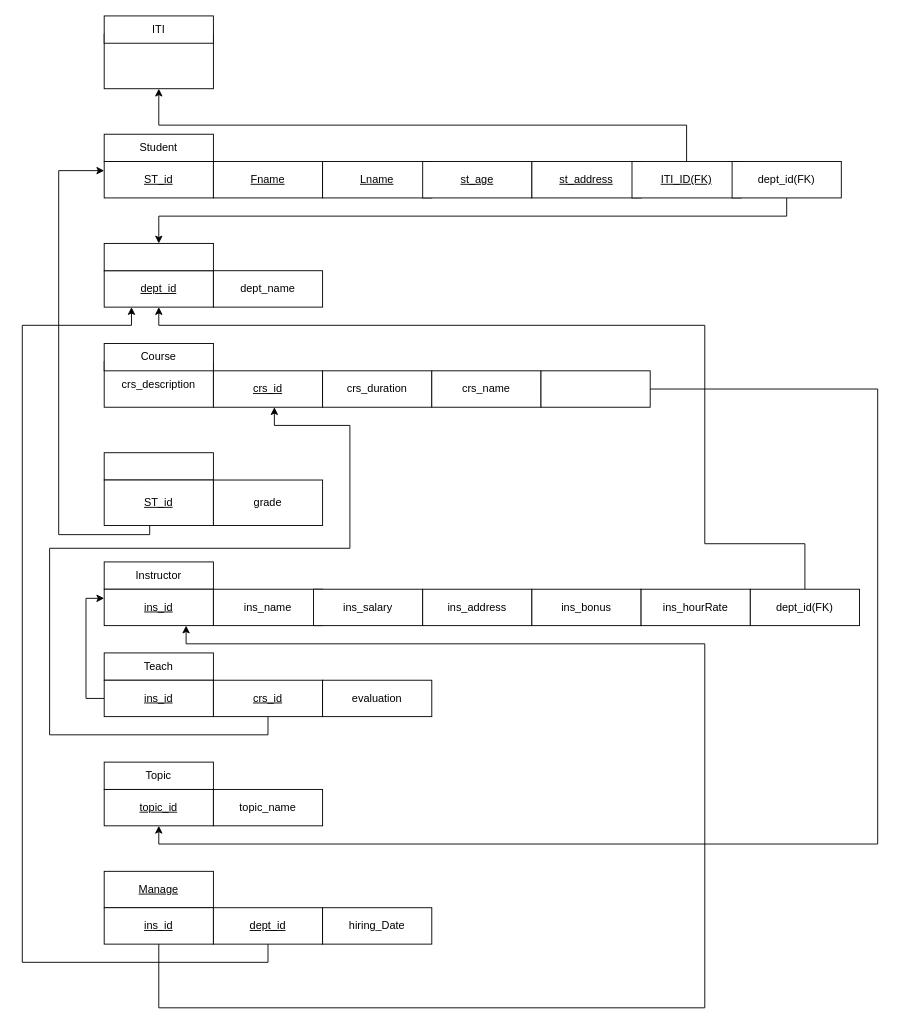
Image size: 901x1031. Some labels were removed from this diagram. The centre of each missing label's shape, as x and y in pixels:
"Department" goes at (158,257).
"ITI_ID" goes at (158,61).
"Take" goes at (158,466).
"topic_id(FK)" goes at (595,388).
